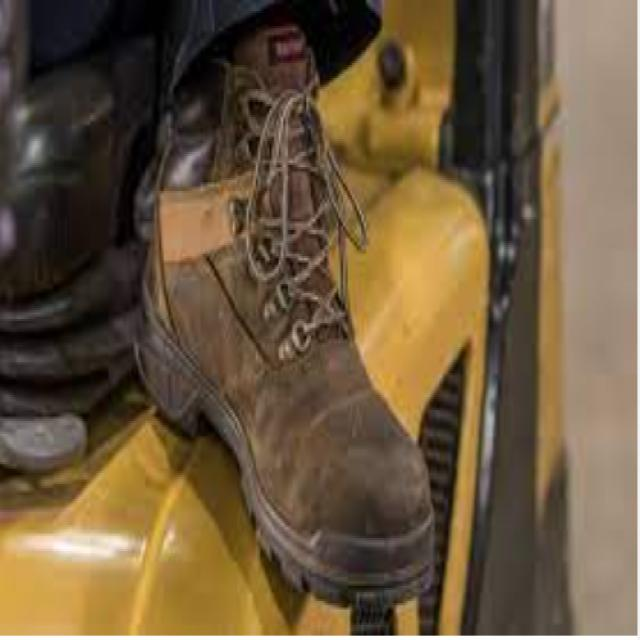shoes: (131, 7, 442, 613)
